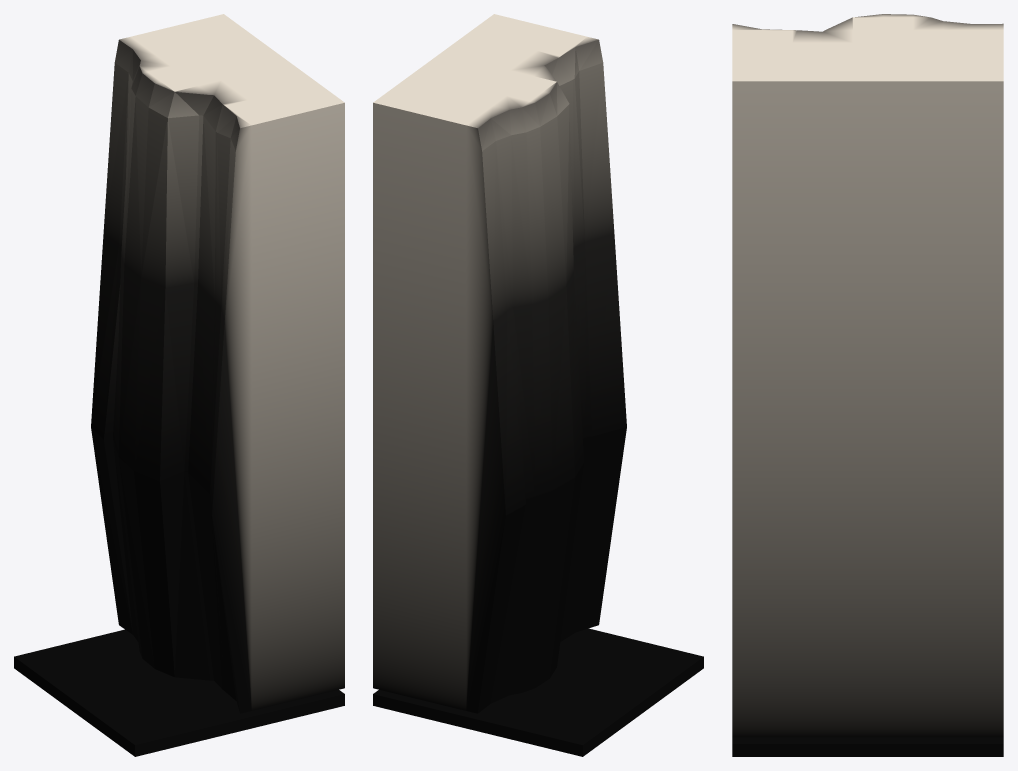
File: SM_VKI_Ground_Cave_XOOX_Q11.fbx
The picture shows the model from 3 angles, left to right: view 1: azimuth 30°, elevation 25°; view 2: azimuth 150°, elevation 25°; view 3: azimuth 270°, elevation 25°; orthographic projection. The views are drawn at different scales.
Parts seen in each view (by area): view 1: SM_VKI_Ground_Cave_XOOX_Q11.001; view 2: SM_VKI_Ground_Cave_XOOX_Q11.001; view 3: SM_VKI_Ground_Cave_XOOX_Q11.001.
Boxes of the visible parts, bbox=[...] form: SM_VKI_Ground_Cave_XOOX_Q11.001: bbox=[14, 14, 344, 756]; SM_VKI_Ground_Cave_XOOX_Q11.001: bbox=[373, 14, 703, 756]; SM_VKI_Ground_Cave_XOOX_Q11.001: bbox=[732, 14, 1003, 756].
Bounding box in the file's own units: 1.5 × 4.12 × 1.5.
